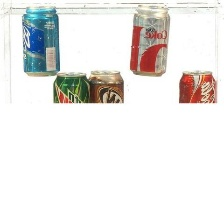can: (128, 3, 174, 78), (19, 4, 63, 79), (179, 67, 217, 105), (51, 69, 90, 105), (89, 68, 126, 104)
